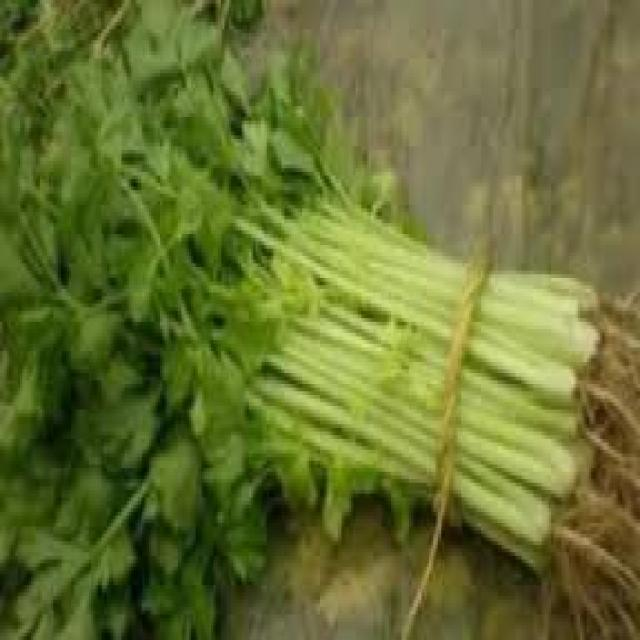food_waste: (0, 0, 638, 640)
